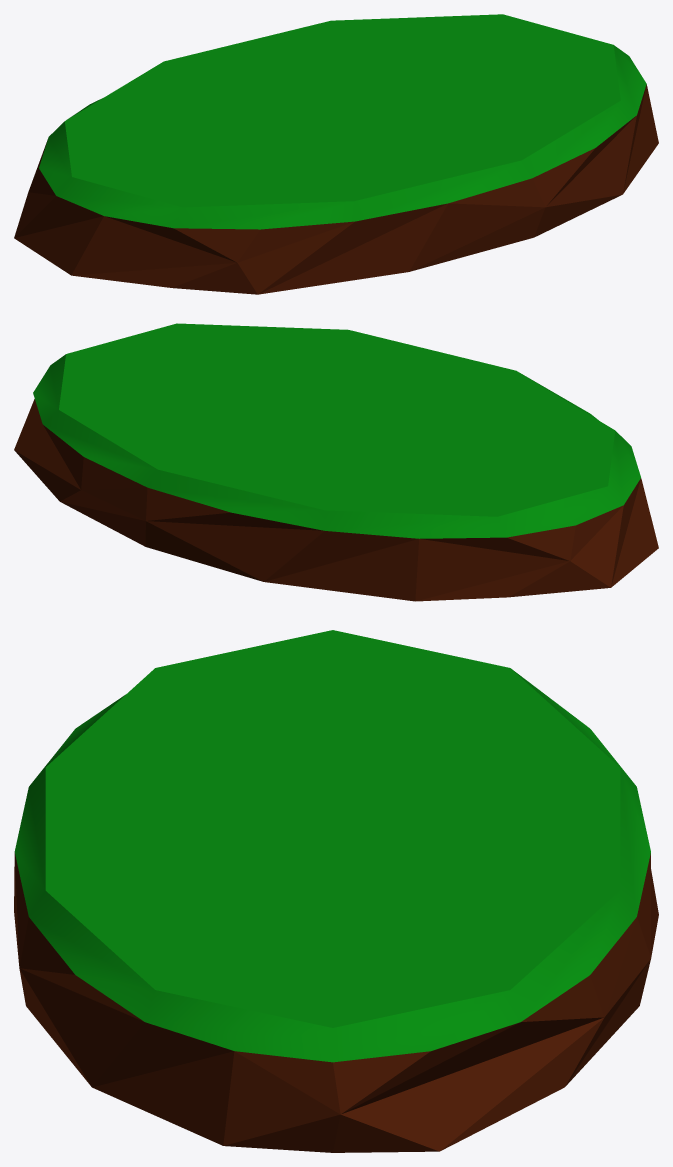
File: ElevatedGround_1.fbx
The picture shows the model from 3 angles, top to bottom: view 1: azimuth 30°, elevation 25°; view 2: azimuth 150°, elevation 25°; view 3: azimuth 270°, elevation 25°; orthographic projection. The views are drawn at different scales.
Parts seen in each view (by area): view 1: ElevatedGround_1; view 2: ElevatedGround_1; view 3: ElevatedGround_1.
Boxes of the visible parts, box(x1,y1,x2,y2) form: ElevatedGround_1: box(14, 14, 658, 294); ElevatedGround_1: box(14, 323, 658, 601); ElevatedGround_1: box(14, 630, 658, 1152).
Bounding box in the file's own units: 2004 × 236 × 1241.
